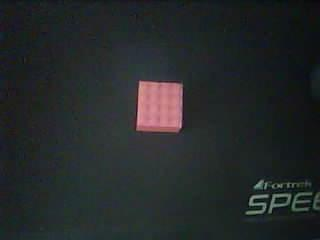lego: (136, 81, 183, 133)
